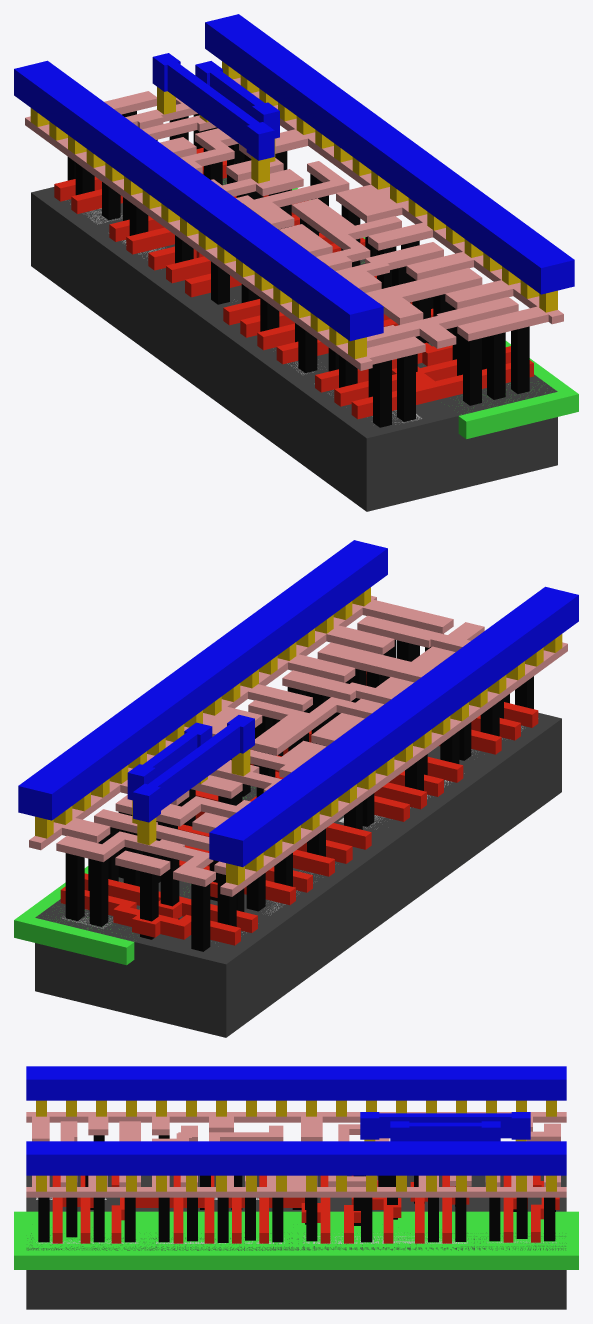
Rendered from sky130_fd_sc_hd__dlrbn_2.obj.
The picture shows the model from 3 angles, top to bottom: view 1: azimuth 30°, elevation 25°; view 2: azimuth 150°, elevation 25°; view 3: azimuth 270°, elevation 25°; orthographic projection. The views are drawn at different scales.
Visible parts, largest first — view 1: metal1, subs, li, licon, poly, mcon, nwell; view 2: metal1, subs, li, licon, poly, mcon, nwell; view 3: metal1, subs, nwell, li, licon, poly, mcon, tap.
Part boxes in pixels (x1=…): metal1: x1=14, y1=14, x2=574, y2=341; subs: x1=31, y1=177, x2=557, y2=511; li: x1=25, y1=77, x2=563, y2=370; licon: x1=67, y1=111, x2=529, y2=427; poly: x1=54, y1=147, x2=533, y2=419; mcon: x1=30, y1=61, x2=557, y2=359; nwell: x1=223, y1=179, x2=578, y2=439; metal1: x1=18, y1=540, x2=578, y2=867; subs: x1=35, y1=712, x2=561, y2=1037; li: x1=29, y1=595, x2=567, y2=896; licon: x1=65, y1=640, x2=533, y2=951; poly: x1=60, y1=671, x2=538, y2=945; mcon: x1=35, y1=587, x2=562, y2=885; nwell: x1=14, y1=748, x2=254, y2=965; metal1: x1=26, y1=1066, x2=566, y2=1175; subs: x1=26, y1=1175, x2=566, y2=1309; nwell: x1=14, y1=1211, x2=578, y2=1269; li: x1=26, y1=1112, x2=566, y2=1197; licon: x1=38, y1=1135, x2=555, y2=1242; poly: x1=52, y1=1175, x2=559, y2=1243; mcon: x1=36, y1=1100, x2=556, y2=1191; tap: x1=36, y1=1233, x2=556, y2=1243.
Bounding box in the file's own units: 3.2 × 2.74 × 8.66.
